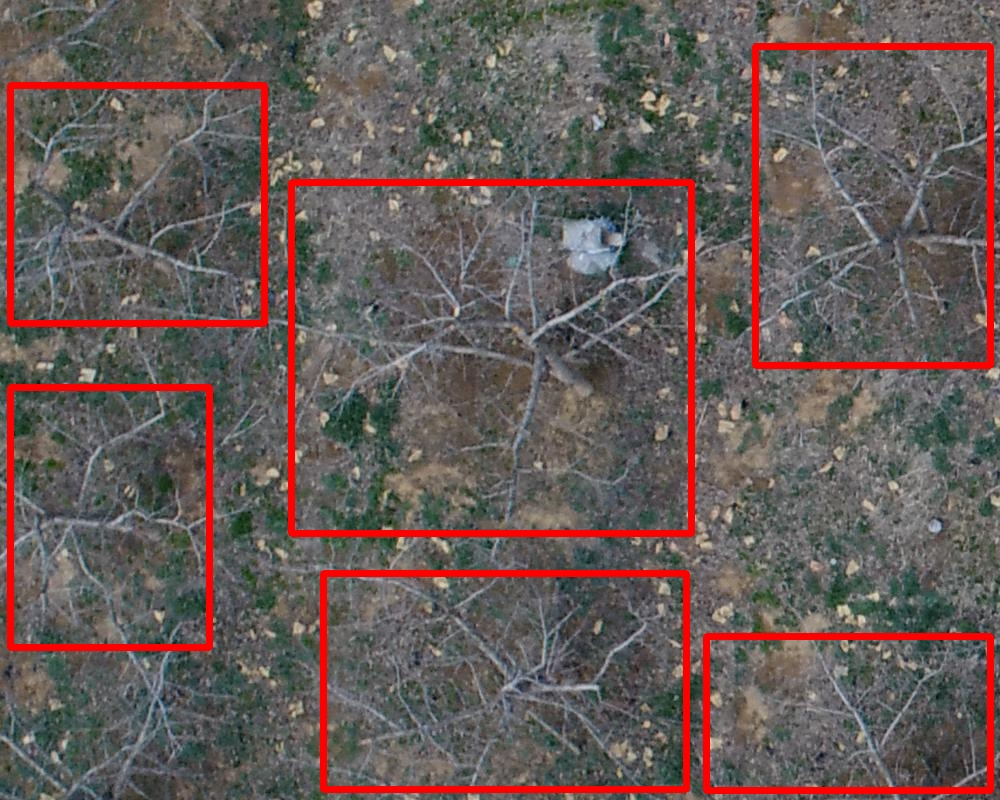apple: (291, 182, 691, 533), (323, 573, 686, 789), (755, 46, 990, 365), (10, 85, 264, 323), (10, 387, 209, 647), (706, 636, 990, 790)
